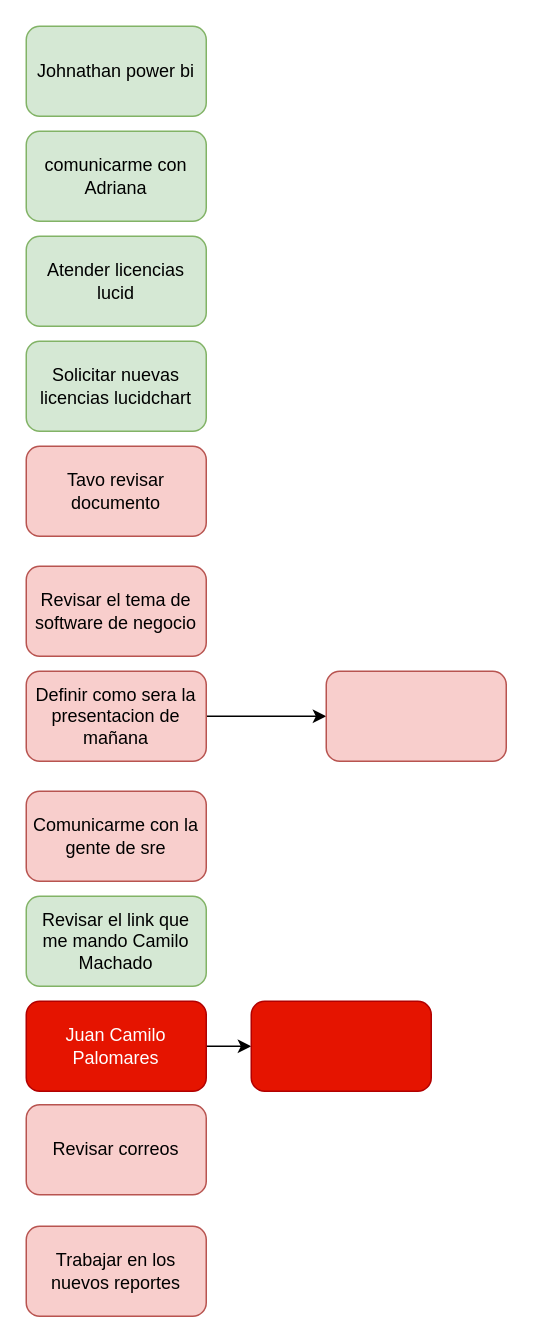
Some shapes in this 533 by 1343 pixel diagram are drawn without their labels. The shapes that lost their labels are listed below. From the top down, each one's centre as x and y in pixels, then its label:
At (415,715): "Esta tarea debe quedar lista".
At (340,1045): "Esta Reunión con Claudia no se dio".
